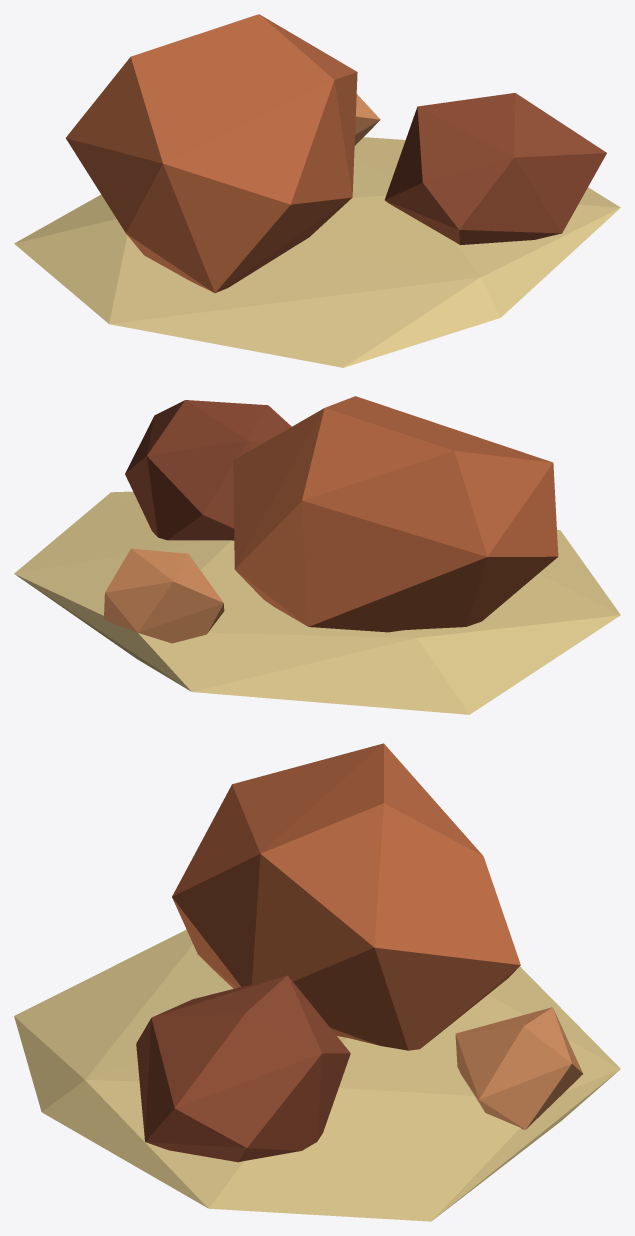
Rendered from rocher_desert_3.glb.
3 views of the same model, one above another, from view 1: azimuth 30°, elevation 25°; view 2: azimuth 150°, elevation 25°; view 3: azimuth 270°, elevation 25° (orthographic). The views are drawn at different scales.
Parts seen in each view (by area): view 1: roche_gres.006, roche_sable.002, roche_gres_sombre.006, roche_gres_clair.006; view 2: roche_gres.006, roche_sable.002, roche_gres_sombre.006, roche_gres_clair.006; view 3: roche_gres.006, roche_sable.002, roche_gres_sombre.006, roche_gres_clair.006.
Part boxes in pixels (<box>): roche_gres.006: <box>66,14,357,292</box>; roche_sable.002: <box>14,137,620,367</box>; roche_gres_sombre.006: <box>385,93,606,244</box>; roche_gres_clair.006: <box>354,94,380,145</box>; roche_gres.006: <box>233,396,558,632</box>; roche_sable.002: <box>14,491,620,714</box>; roche_gres_sombre.006: <box>125,400,291,540</box>; roche_gres_clair.006: <box>104,548,224,643</box>; roche_gres.006: <box>172,743,520,1050</box>; roche_sable.002: <box>14,929,620,1221</box>; roche_gres_sombre.006: <box>136,975,350,1162</box>; roche_gres_clair.006: <box>455,1007,583,1129</box>.
Size of the model in its own units: 0.9082 by 0.3741 by 0.8059.
